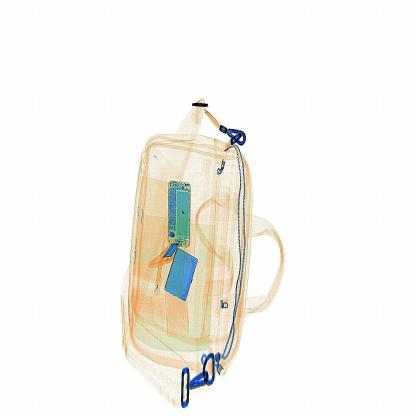pliers: (145, 234, 188, 271)
